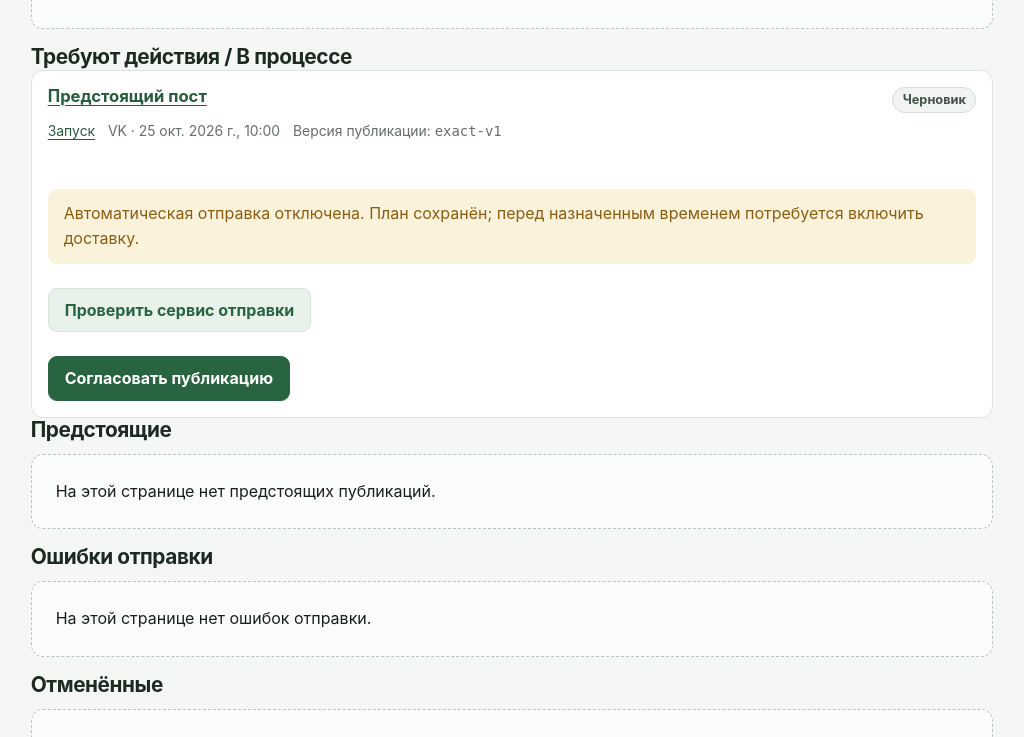
snapshot failures and pagination › does not report a successful command as failed when its authoritative refresh fails
The width and height of the screenshot is (1024, 737).
(page scrolled)
What coordinates should you click on to do the following:
click the button "Согласовать публикацию"
I would click on:
 (169, 378)
Its box is top-left (48, 356), bottom-right (290, 401).
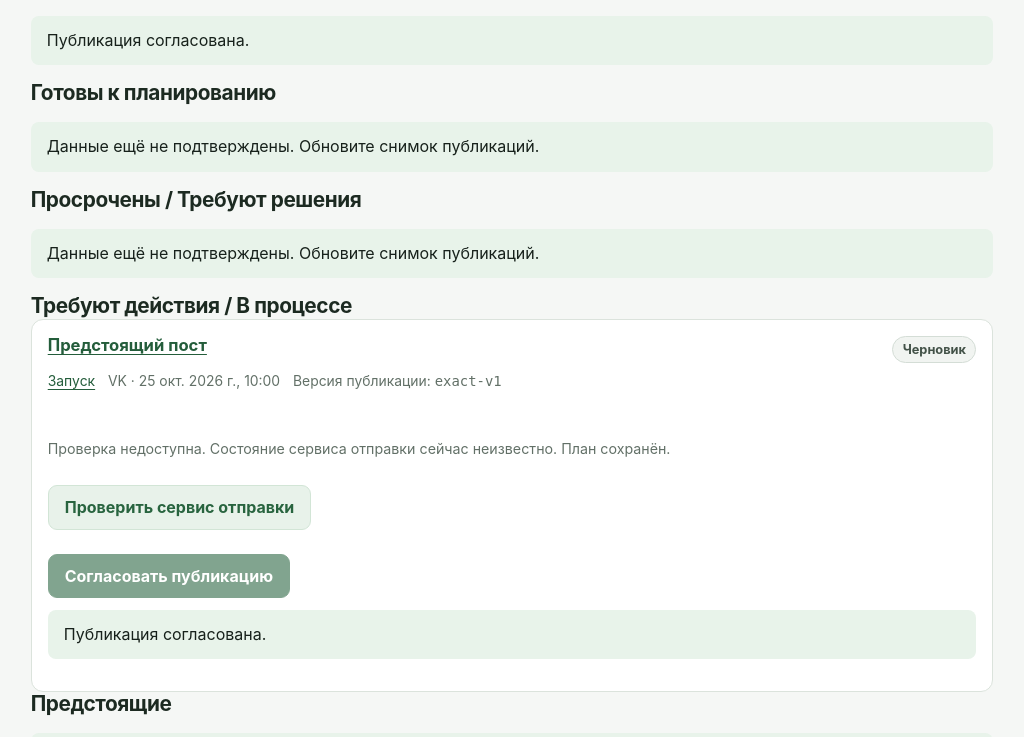
Expected: the 1st text "Публикация согласована." is shown, top-left (31, 16), bottom-right (993, 65)
Expected: the button "Согласовать публикацию" is disabled, top-left (48, 554), bottom-right (290, 598)
